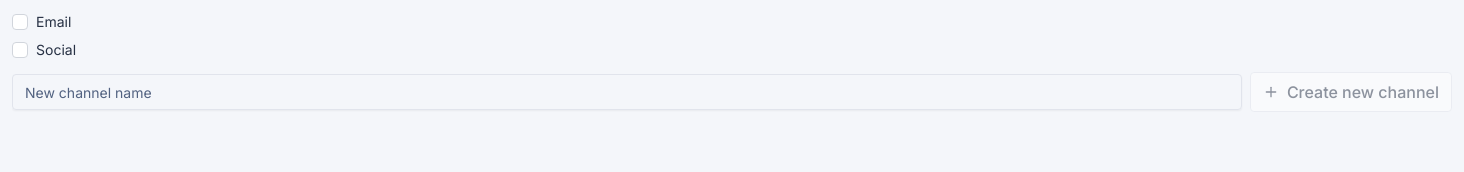
ChannelPicker › shows the API error inline when creating fails
Type "Ads" into the field labelled "New channel name" at (627, 92), box [12,74,1242,110]
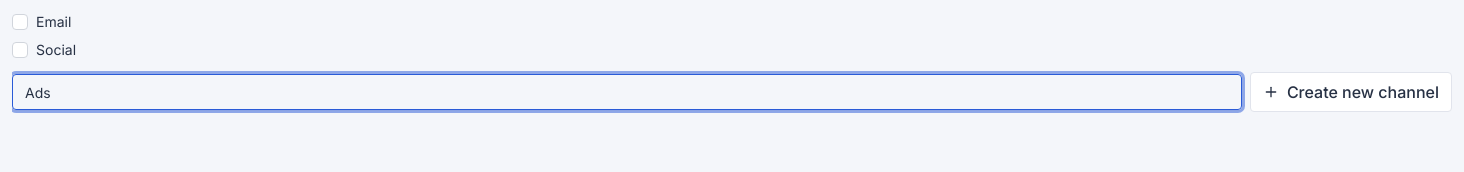
Click the button "Create new channel" at (1351, 92), box [1250,72,1452,112]
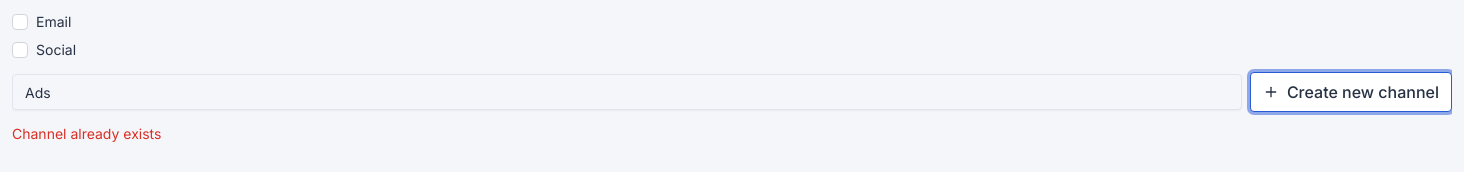
Now the message reads "Channel already exists", box [12,125,161,142]
